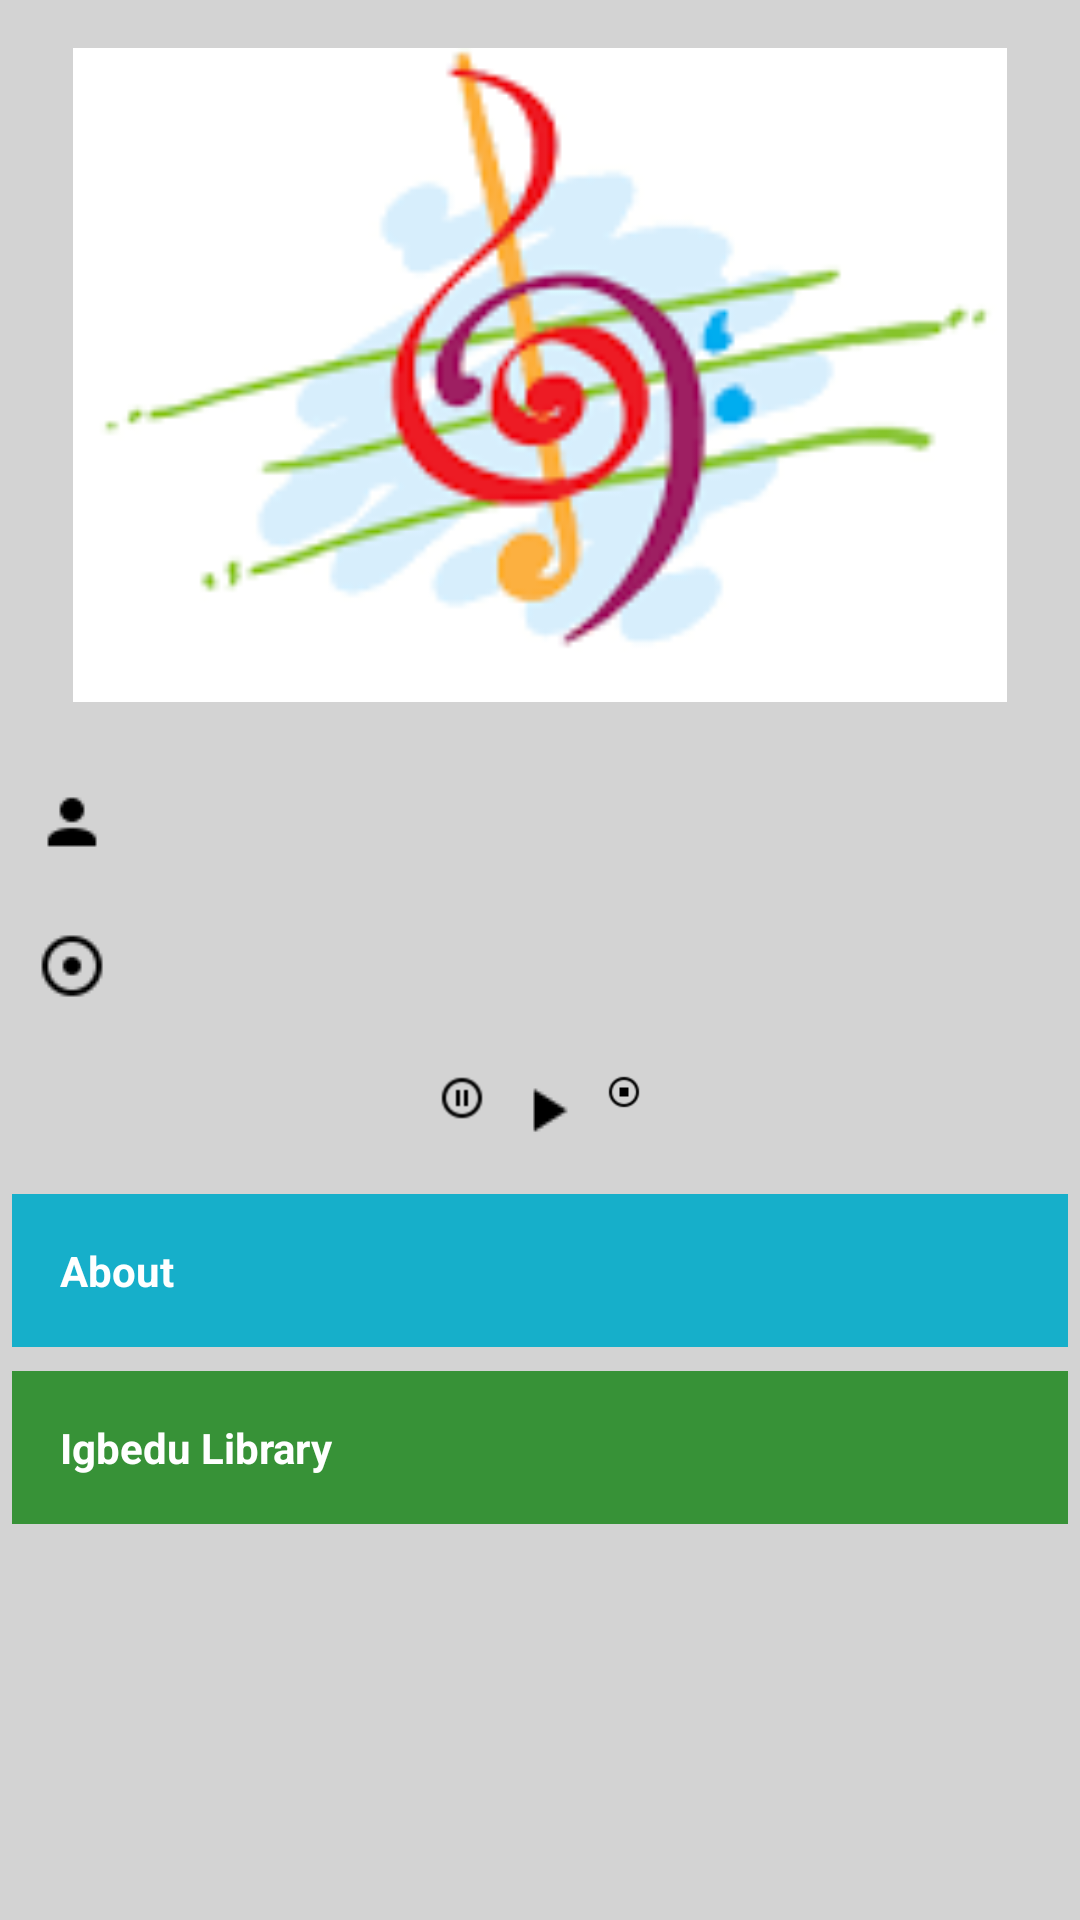

Icon bounding boxes for this 1080 × 1920 phone screenshot, format (x1, y1, x2, y2):
account: (47, 797, 97, 847)
adjust: (41, 935, 103, 997)
pause: (441, 1077, 483, 1119)
play: (533, 1088, 568, 1132)
stop: (608, 1076, 640, 1108)
